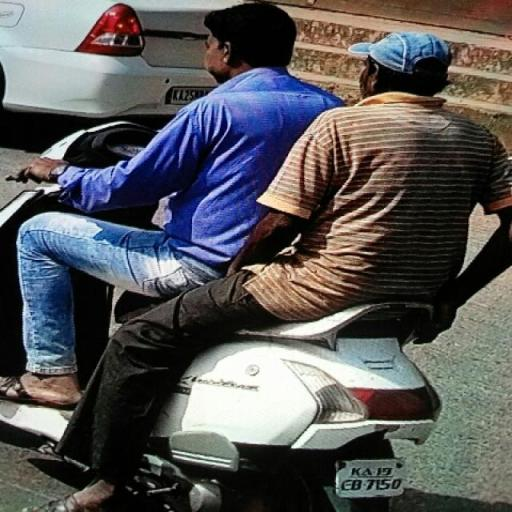bike: (1, 0, 512, 512)
numberplate: (336, 462, 410, 498)
withouthelmet: (206, 7, 292, 77), (364, 33, 450, 97)
